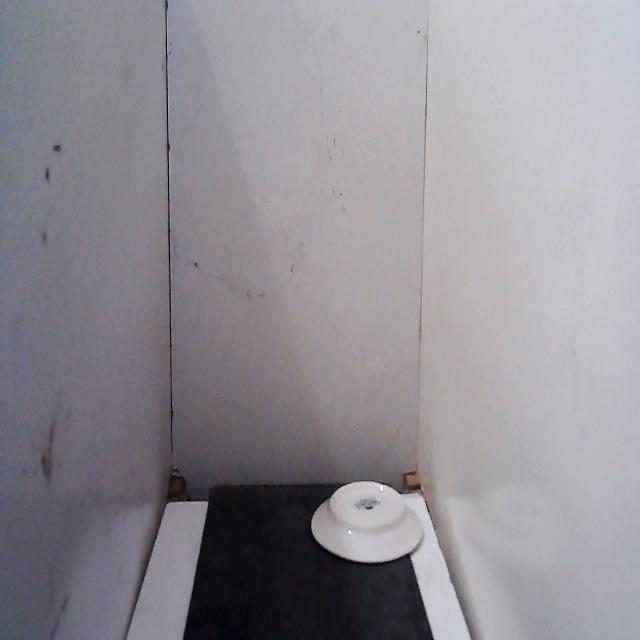vidro: (307, 464, 429, 572)
